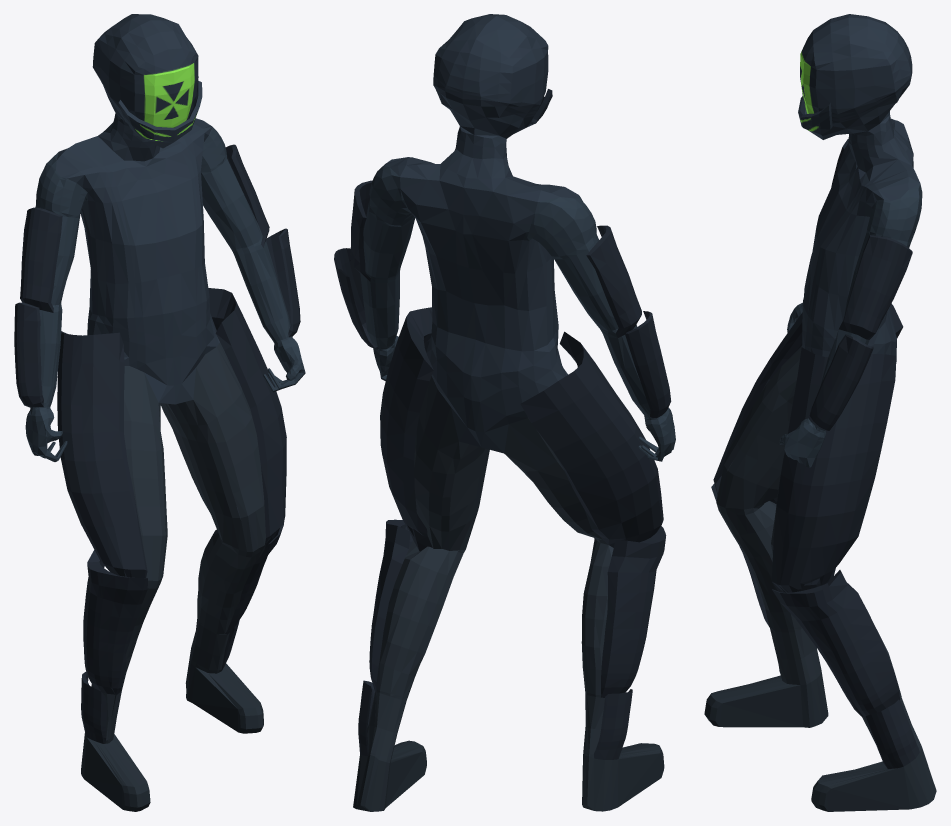
The model's file is Bastion_Stun_Recover_000002.obj.
3 views of the same model, side by side, from view 1: azimuth 30°, elevation 25°; view 2: azimuth 150°, elevation 25°; view 3: azimuth 270°, elevation 25° (orthographic). The views are drawn at different scales.
Visible parts, largest first — view 1: Cube.002; view 2: Cube.002; view 3: Cube.002.
Part boxes in pixels (left/top/right/bottom): Cube.002: left=14, top=14, right=305, bottom=811; Cube.002: left=334, top=14, right=675, bottom=811; Cube.002: left=704, top=14, right=936, bottom=811.
Bounding box in the file's own units: 1.54 × 3.71 × 1.05.
